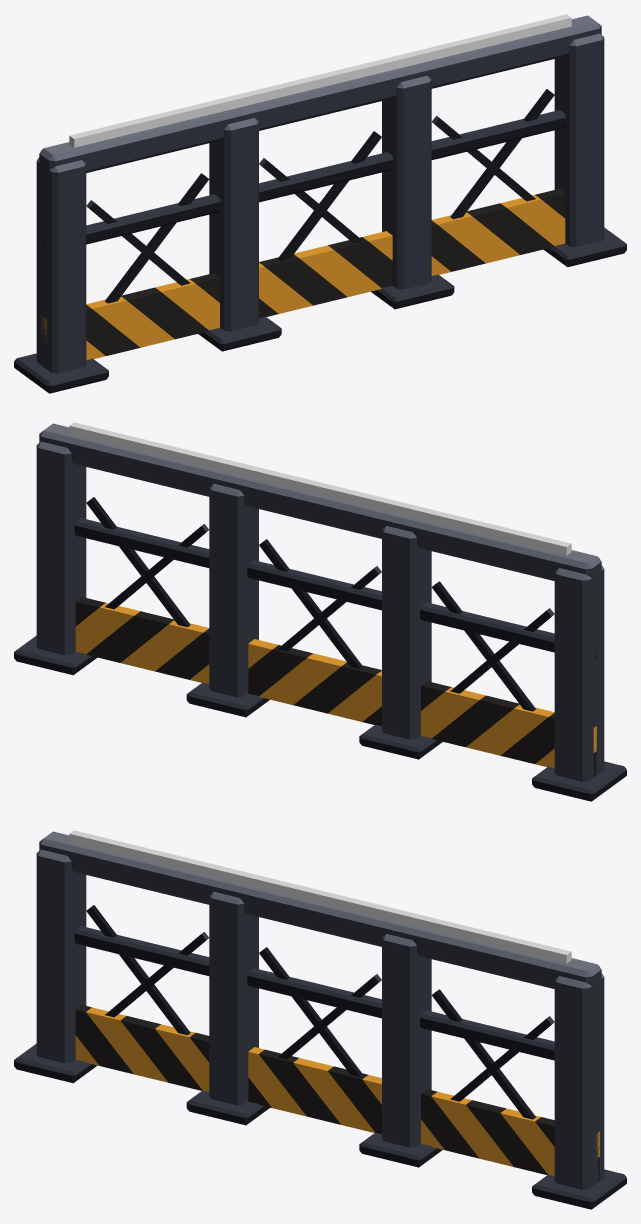
File: Railing.fbx
3 renders of one model, top to bottom at view 1: azimuth 30°, elevation 25°; view 2: azimuth 150°, elevation 25°; view 3: azimuth 330°, elevation 25°, orthographic.
Visible parts, largest first — view 1: Body, Line_Glow, Mesh; view 2: Body, Line_Glow, Mesh; view 3: Body, Line_Glow, Mesh.
Part boxes in pixels (box(x1,y1,x2,y2)): Body: box(14, 15, 626, 393); Line_Glow: box(69, 14, 571, 147); Mesh: box(86, 89, 554, 303); Body: box(14, 423, 626, 801); Line_Glow: box(69, 422, 571, 555); Mesh: box(86, 497, 554, 711); Body: box(14, 831, 626, 1209); Line_Glow: box(69, 830, 571, 963); Mesh: box(86, 905, 554, 1119).
Bounding box in the file's own units: 8.4 × 3.25 × 0.9.
